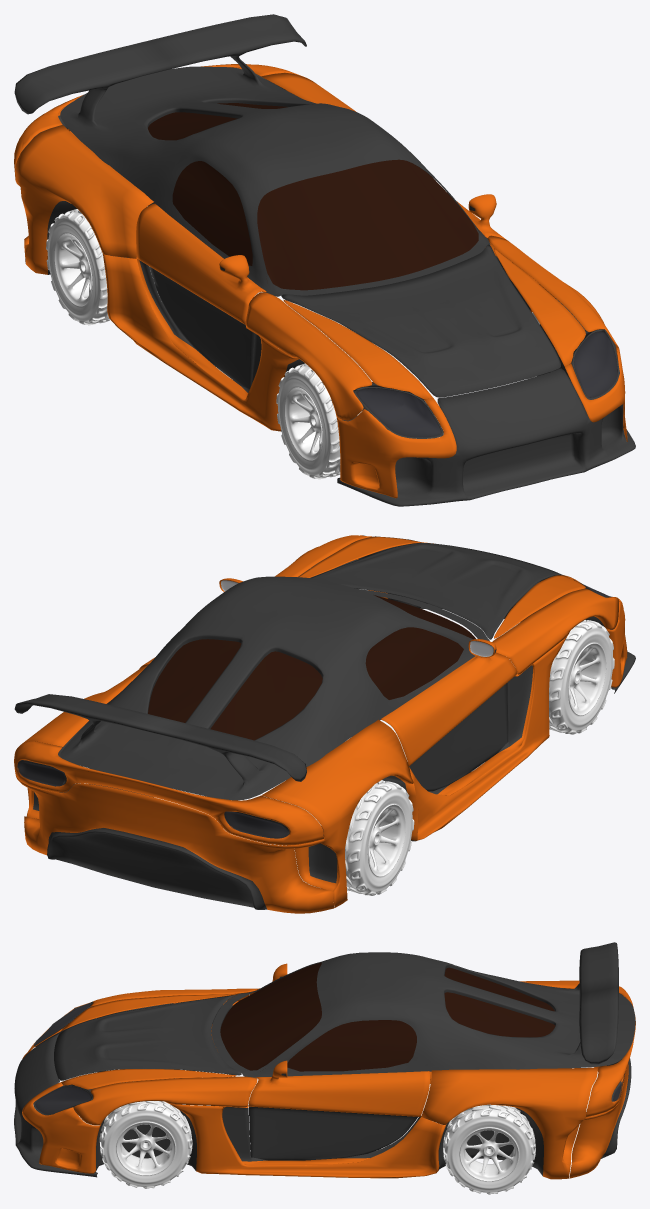
3 renders of one model, top to bottom at view 1: azimuth 30°, elevation 25°; view 2: azimuth 150°, elevation 25°; view 3: azimuth 270°, elevation 25°, orthographic. The views are drawn at different scales.
Bounding box in the file's own units: 2.06 × 1.25 × 4.42.
